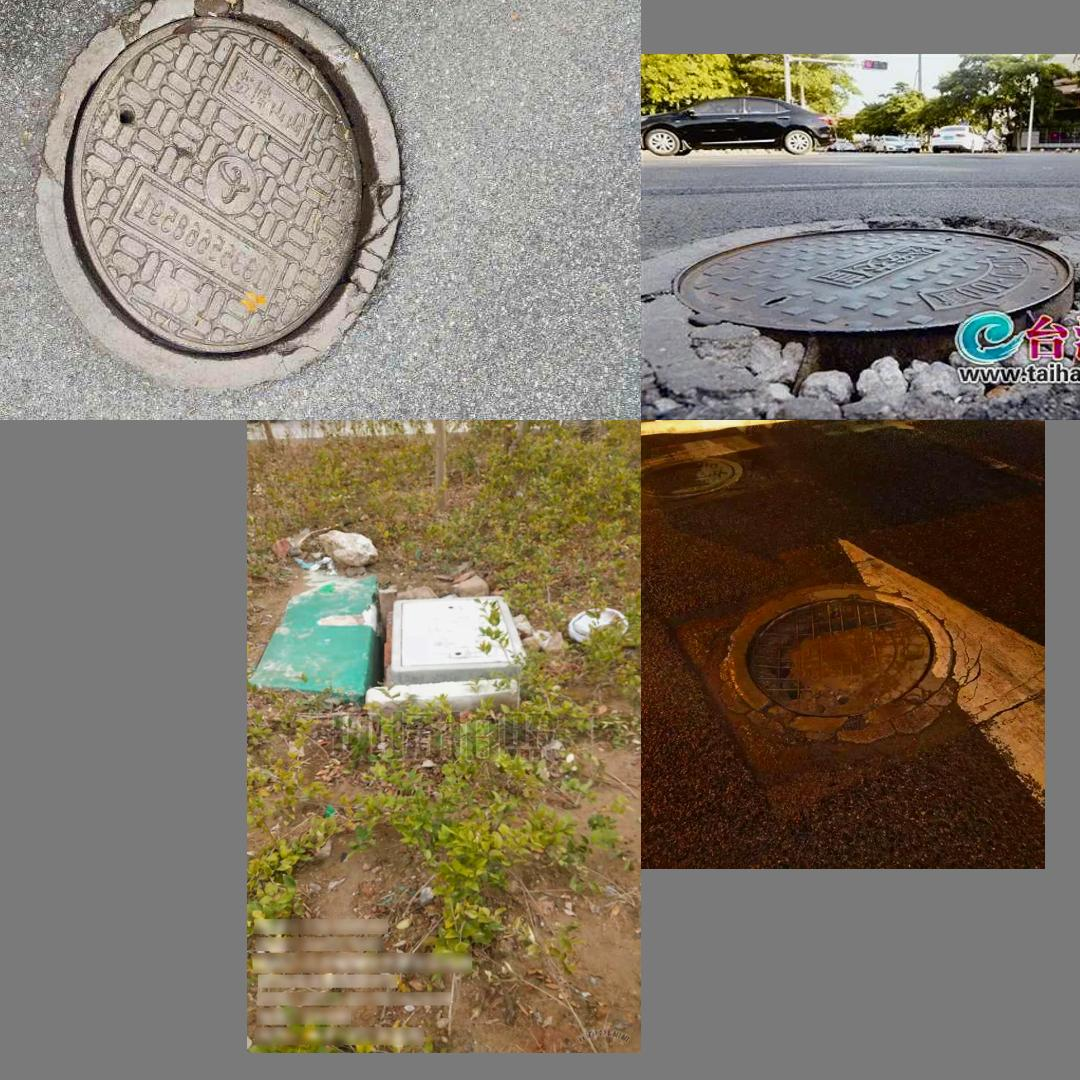circle: (4, 0, 467, 402), (651, 214, 1080, 399), (678, 568, 1015, 784), (363, 588, 536, 703)
